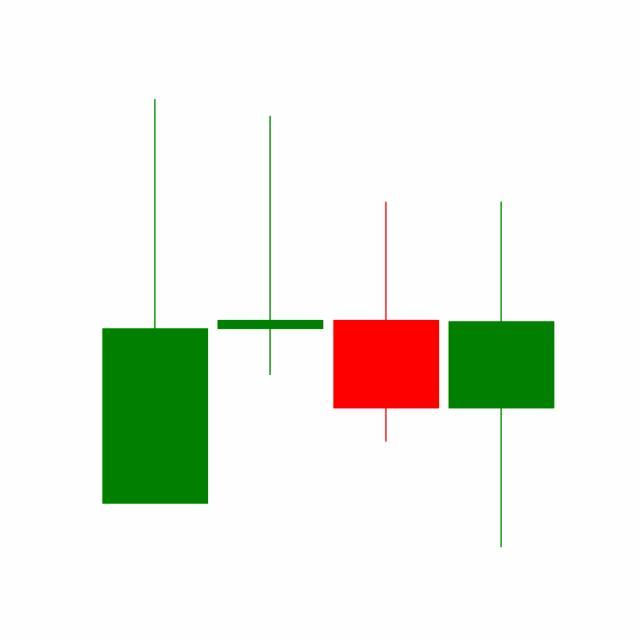Spinning Top: (444, 198, 560, 552)
